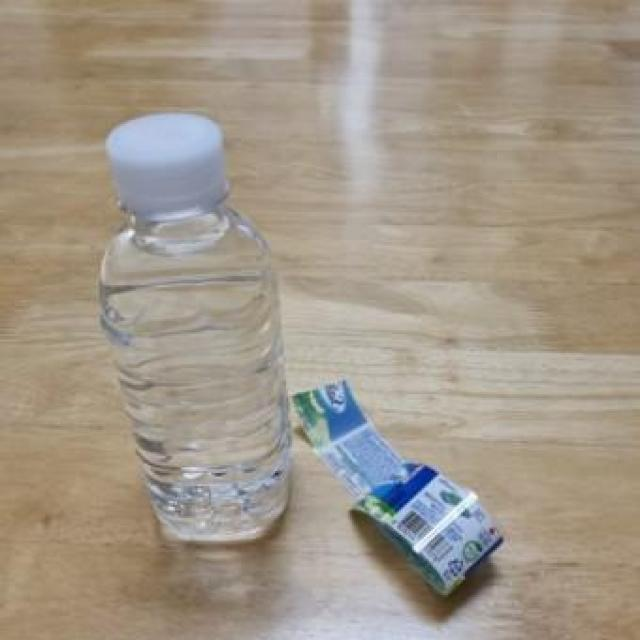bottle: (66, 78, 305, 589)
